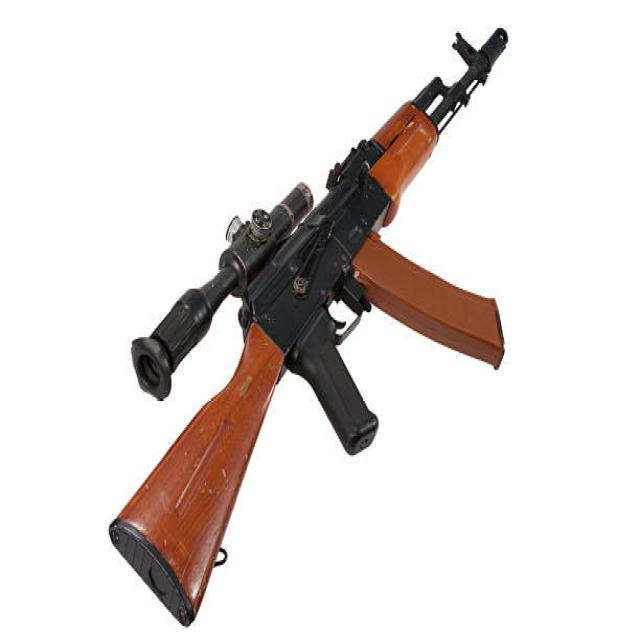rifle: (106, 24, 514, 638)
